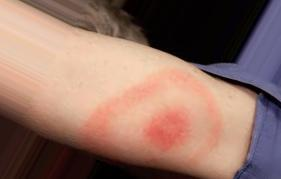Tick: (107, 73, 227, 175)
